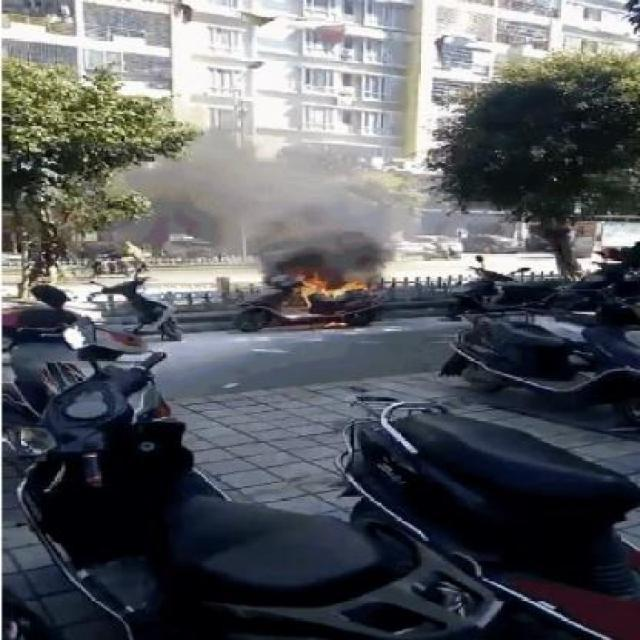Fire: (296, 274, 369, 296)
Smoke: (222, 144, 393, 278)
